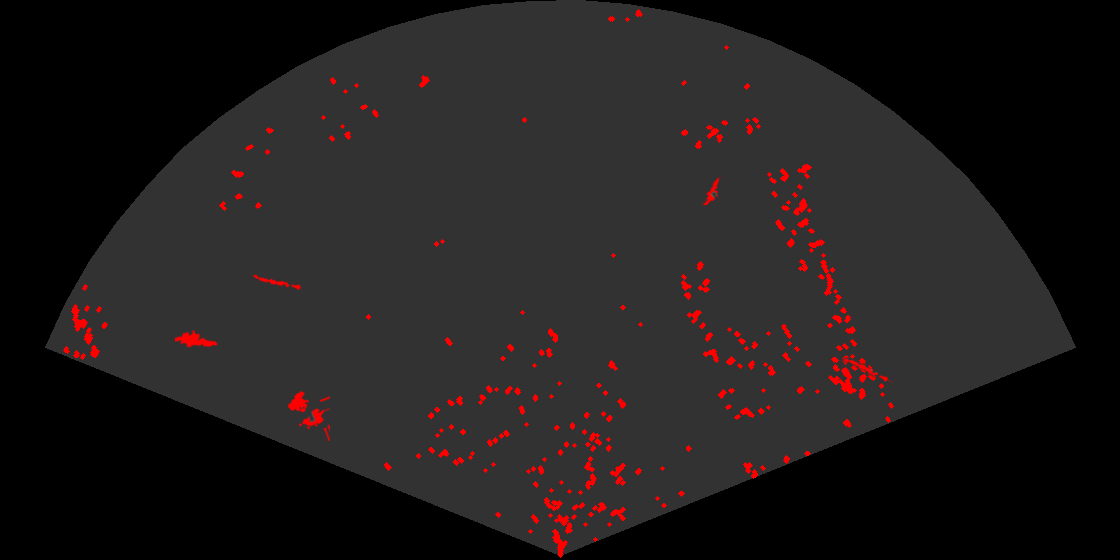cage: (286, 389, 330, 441)
chain: (841, 357, 893, 385), (251, 273, 302, 292)
frogman: (175, 328, 218, 349), (699, 176, 723, 205)
